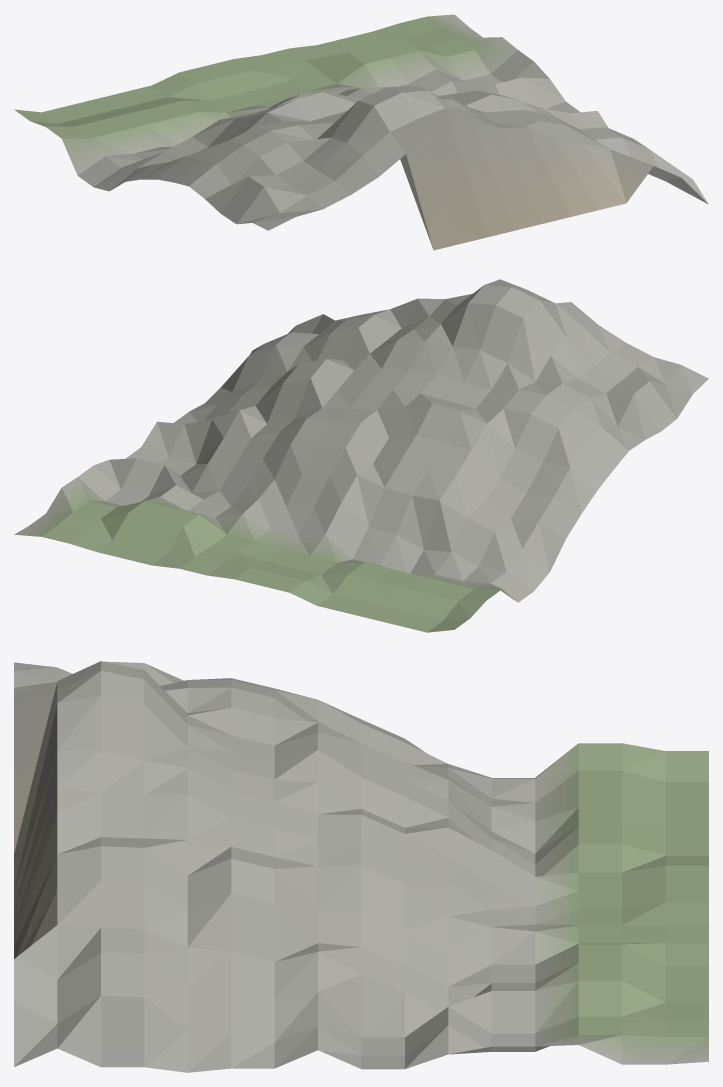
3 renders of one model, top to bottom at view 1: azimuth 30°, elevation 25°; view 2: azimuth 150°, elevation 25°; view 3: azimuth 270°, elevation 25°, orthographic. The views are drawn at different scales.
Size of the model in its own units: 32 by 11.18 by 32.
